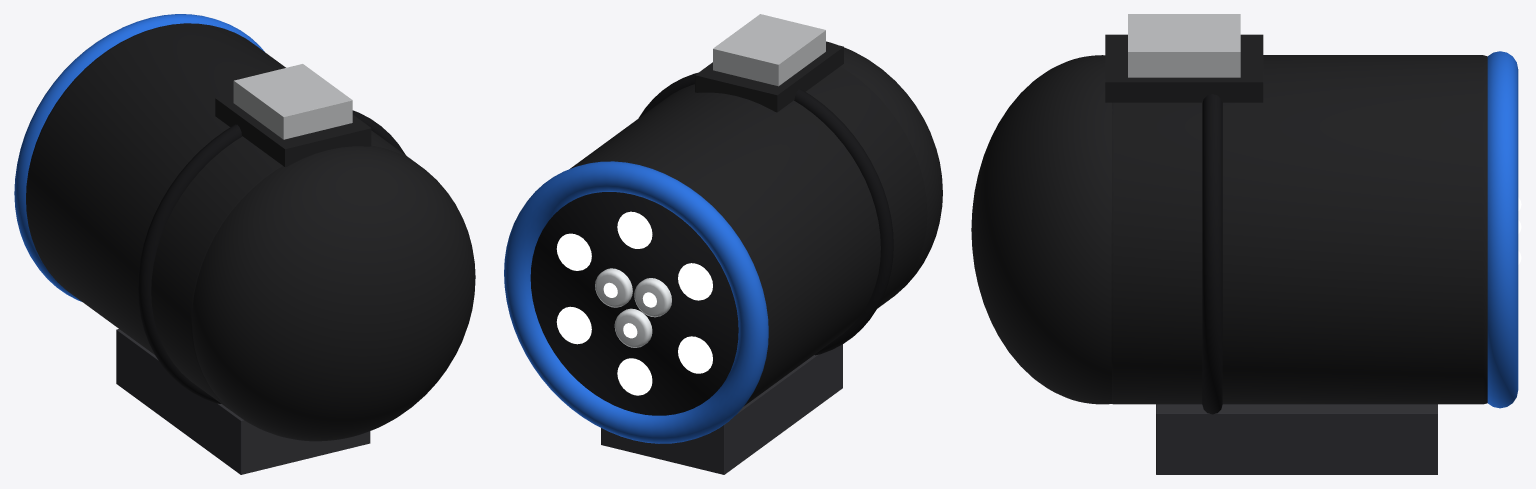
The model's file is dive-light.glb.
The picture shows the model from 3 angles, left to right: view 1: azimuth 30°, elevation 25°; view 2: azimuth 150°, elevation 25°; view 3: azimuth 270°, elevation 25°; orthographic projection. The views are drawn at different scales.
Visible parts, largest first — view 1: dive-light; view 2: dive-light; view 3: dive-light.
Part boxes in pixels (x1,y1,x2,y2): dive-light: [14, 14, 475, 474]; dive-light: [504, 14, 942, 474]; dive-light: [971, 14, 1521, 474].
Size of the model in its own units: 0.0656 by 0.0795 by 0.0975.
